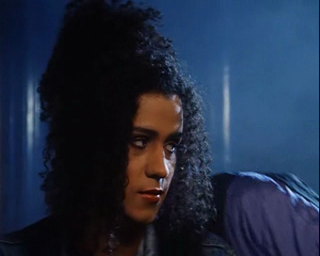cu: (1, 1, 320, 256)
face: (125, 110, 184, 224)
person: (1, 1, 237, 256)
